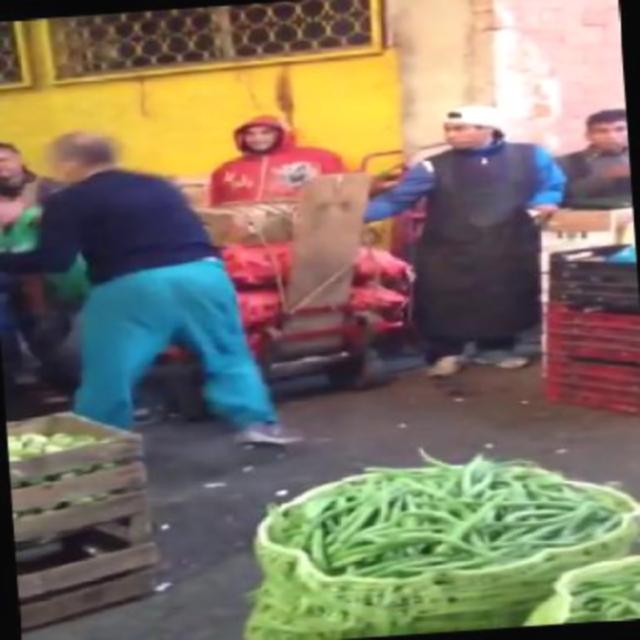fight: (392, 97, 574, 371)
